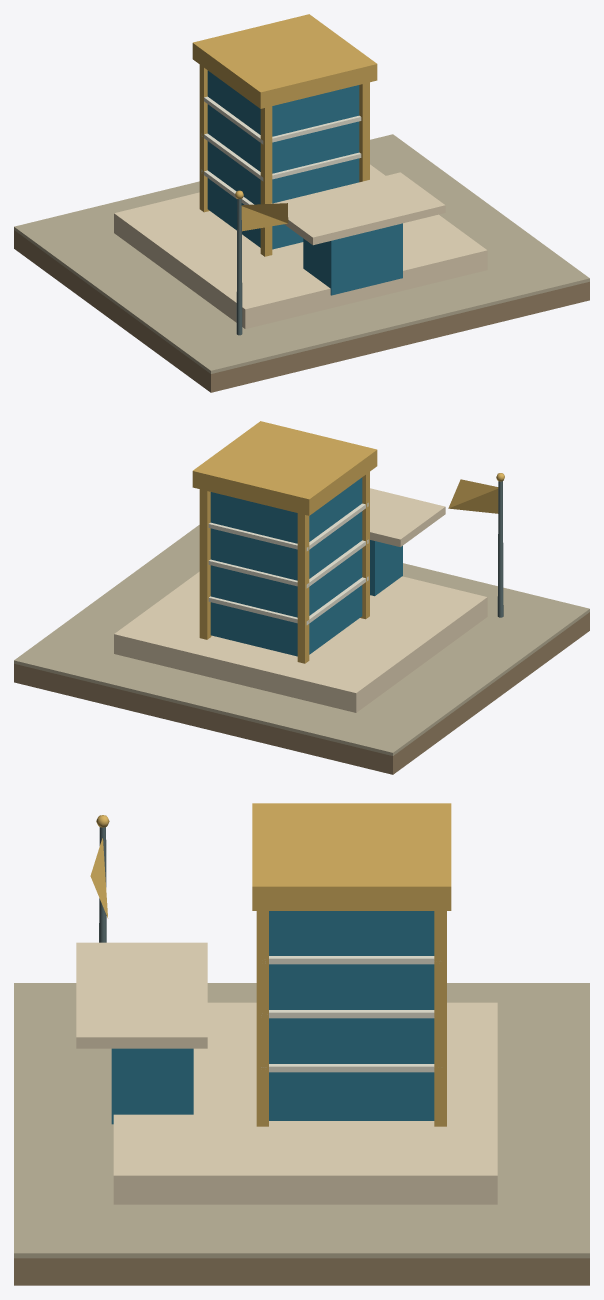
Rendered from club-headquarters-lv1.glb.
The picture shows the model from 3 angles, top to bottom: view 1: azimuth 30°, elevation 25°; view 2: azimuth 150°, elevation 25°; view 3: azimuth 270°, elevation 25°; orthographic projection. The views are drawn at different scales.
Parts seen in each view (by area): view 1: foundation_paving, headquarters_plinth_cream, office_tower_glass, foundation_stoneDark, tower_crown_gold, entrance_canopy_cream, entrance_lobby_glass, tower_mullions_gold, floor_bands_white, flags_gold, flags_iron; view 2: foundation_paving, headquarters_plinth_cream, office_tower_glass, foundation_stoneDark, tower_crown_gold, tower_mullions_gold, floor_bands_white, entrance_canopy_cream, entrance_lobby_glass, flags_gold, flags_iron; view 3: foundation_paving, headquarters_plinth_cream, office_tower_glass, tower_crown_gold, foundation_stoneDark, entrance_canopy_cream, tower_mullions_gold, entrance_lobby_glass, floor_bands_white, flags_gold.
Part boxes in pixels (x1,y1,x2,y2): foundation_paving: (14,134,589,373); headquarters_plinth_cream: (114,164,487,328); office_tower_glass: (207,70,359,249); foundation_stoneDark: (14,230,589,392); tower_crown_gold: (192,14,377,108); entrance_canopy_cream: (271,172,445,245); entrance_lobby_glass: (303,223,402,295); tower_mullions_gold: (199,65,369,256); floor_bands_white: (201,96,361,204); flags_gold: (235,190,288,231); flags_iron: (236,199,242,335); foundation_paving: (14,525,589,755); headquarters_plinth_cream: (114,571,487,712); office_tower_glass: (210,477,362,656); foundation_stoneDark: (14,612,589,774); tower_crown_gold: (192,421,377,515); tower_mullions_gold: (199,472,369,663); floor_bands_white: (208,502,368,624); entrance_canopy_cream: (370,488,445,547); entrance_lobby_glass: (370,540,402,596); flags_gold: (448,473,504,513); flags_iron: (497,481,503,617); foundation_paving: (14,983,589,1258); headquarters_plinth_cream: (113,1002,497,1204); office_tower_glass: (269,911,434,1120); tower_crown_gold: (252,803,451,910); foundation_stoneDark: (14,1258,589,1285); entrance_canopy_cream: (76,942,207,1048); tower_mullions_gold: (256,911,446,1126); entrance_lobby_glass: (111,1048,193,1124); floor_bands_white: (261,956,434,1072); flags_gold: (90,815,109,918).
Size of the model in its own units: 1 by 0.5264 by 0.9.
